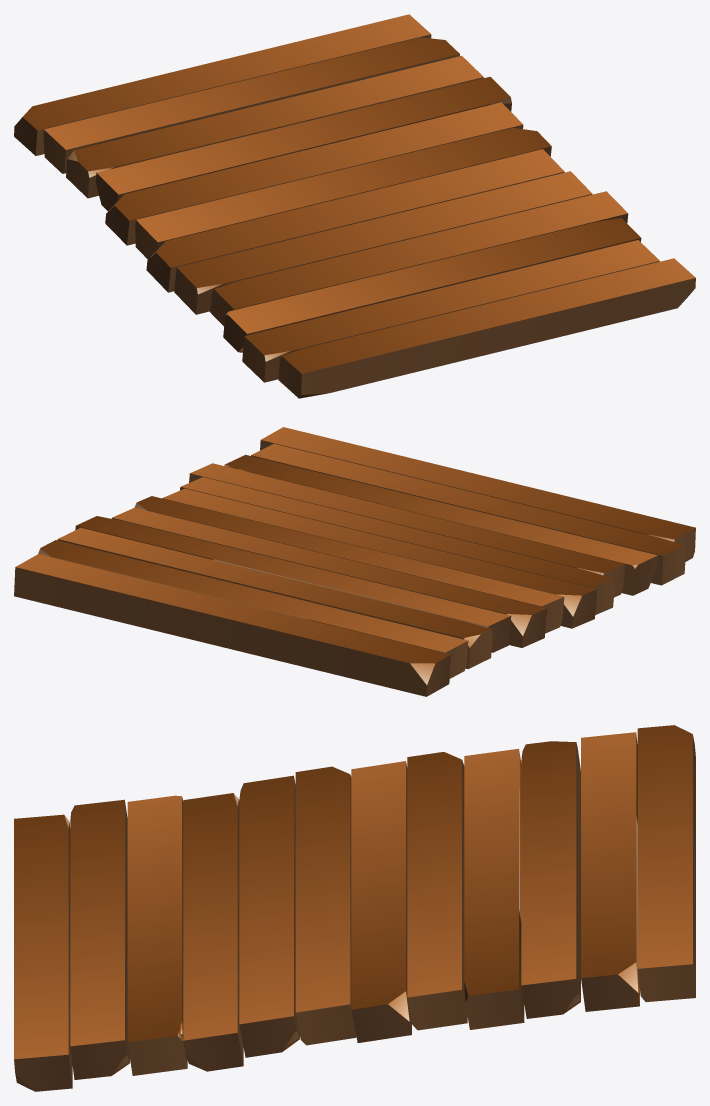
Rendered from SM_HolzbrueckeBroken_Boden.fbx.
3 views of the same model, one above another, from view 1: azimuth 30°, elevation 25°; view 2: azimuth 150°, elevation 25°; view 3: azimuth 270°, elevation 25° (orthographic). The views are drawn at different scales.
Parts seen in each view (by area): view 1: SM_HolzbrueckeBroken_Boden; view 2: SM_HolzbrueckeBroken_Boden; view 3: SM_HolzbrueckeBroken_Boden.
Boxes of the visible parts, bbox=[...] form: SM_HolzbrueckeBroken_Boden: bbox=[14, 14, 695, 398]; SM_HolzbrueckeBroken_Boden: bbox=[14, 427, 695, 696]; SM_HolzbrueckeBroken_Boden: bbox=[14, 725, 695, 1091].
Bounding box in the file's own units: 381 × 84.5 × 436.
